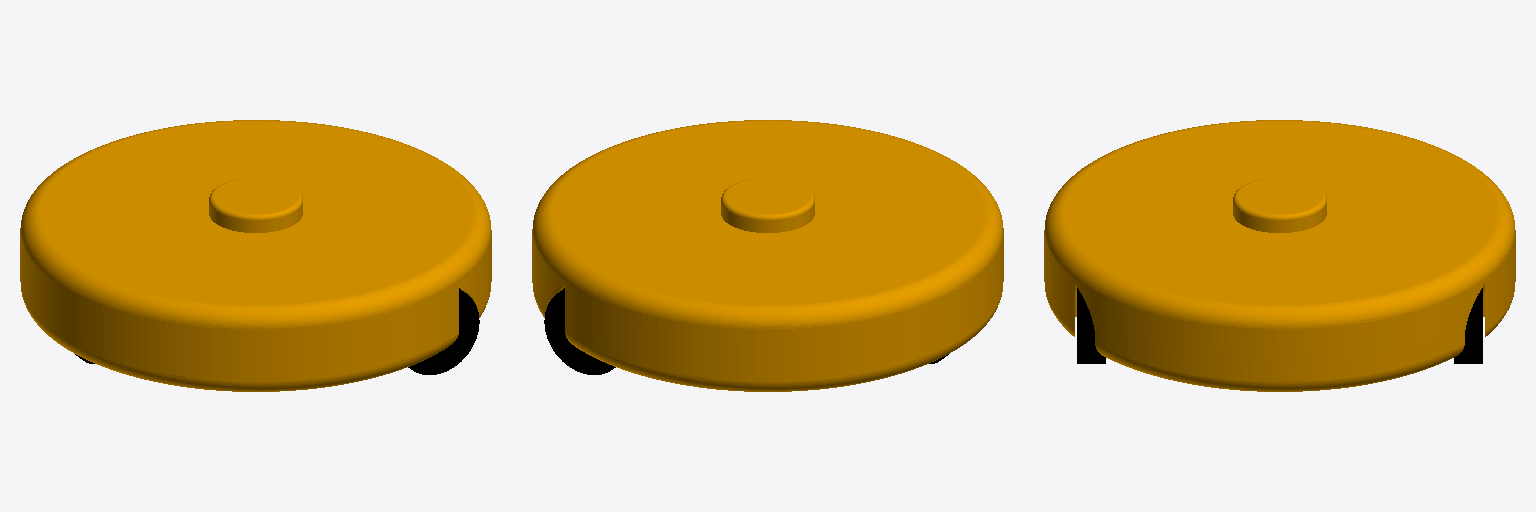
The robot description file, URDF, robot "mon_premier_robot":
<?xml version ="1.0"?>
<robot name="mon_premier_robot">

    <material name="Black">
        <color rgba="0.0 0.0 0.0 1.0"/>
    </material>

    <link name="base_link">
        <visual>
            <geometry>
                <mesh filename="package://robot_description/urdf/meshes/chassis.dae"/>
            </geometry>
            <origin xyz="0.0 0.0 -0.05" rpy="0.0 0.0 -1.57075"/>
        </visual>
        <collision>
            <geometry>
                <mesh filename="package://robot_description/urdf/meshes/chassis.dae"/>
            </geometry>
            <origin xyz="0.0 0.0 -0.05" rpy="0.0 0.0 -1.57075"/>
        </collision>
    </link>


    <link name="right_wheel">
        <visual>
            <geometry>
                <cylinder radius="0.05" length="0.03" />
            </geometry>
            <origin rpy="1.57075 0.0 0.0"/>
            <material name="Black"/>
        </visual>
        <collision>
            <geometry>
                <cylinder radius="0.05" length="0.03" />
            </geometry>
            <origin rpy="1.57075 0.0 0.0"/>
        </collision>
    </link>

    <joint name="right_wheel_joint" type="continuous">
        <parent link="base_link"/>
        <child link="right_wheel"/>
        <origin xyz="0.1 -0.2 -0.025"/>
        <axis xyz="0.0 1.0 0.0"/>
    </joint>    

    <link name="left_wheel">
        <visual>
            <geometry>
                <cylinder radius="0.05" length="0.03" />
            </geometry>
            <origin rpy="1.57075 0.0 0.0"/>
            <material name="Black"/>
        </visual>
        <collision>
            <geometry>
                <cylinder radius="0.05" length="0.03" />
            </geometry>
            <origin rpy="1.57075 0.0 0.0"/>
        </collision>
    </link>

    <joint name="left_wheel_joint" type="continuous">
        <parent link="base_link"/>
        <child link="left_wheel"/>
        <origin xyz="0.1 0.2 -0.025"/>
        <axis xyz="0.0 1.0 0.0"/>
    </joint>    

    <link name="crazy_wheel_support"/>

    <joint name="crazy_wheel_support_joint" type="continuous">
        <parent link="base_link"/>
        <child link="crazy_wheel_support"/>
        <origin xyz="-0.2 0.0 -0.05"/>
        <axis xyz="0.0 0.0 1.0"/>
    </joint>    

    <link name="crazy_wheel">
        <visual>
            <geometry>
                <cylinder radius="0.025" length="0.02" />
            </geometry>
            <origin rpy="1.57075 0.0 0.0"/>
            <material name="Black"/>
        </visual>
        <collision>
            <geometry>
                <cylinder radius="0.025" length="0.02" />
            </geometry>
            <origin rpy="1.57075 0.0 0.0"/>
        </collision>
    </link>

    <joint name="crazy_wheel_joint" type="continuous">
        <parent link="crazy_wheel_support"/>
        <child link="crazy_wheel"/>
        <origin xyz="0.0 0.0 0.0"/>
        <axis xyz="0.0 1.0 0.0"/>
    </joint>    

</robot>

--- Render facts (derived) ---
Views: 3 orthographic renders of the robot side by side, from view 1: azimuth 30°, elevation 25°; view 2: azimuth 150°, elevation 25°; view 3: azimuth 270°, elevation 25°.
Robot: mon_premier_robot — 5 links, 4 joints (4 continuous); root link base_link; default pose: every joint at zero.
Links seen in each view (by area): view 1: base_link, right_wheel; view 2: base_link, left_wheel; view 3: base_link, right_wheel, left_wheel.
Link boxes in pixels (x1,y1,x2,y2): base_link: (20,120,491,391); right_wheel: (408,288,479,374); base_link: (532,120,1003,391); left_wheel: (544,288,615,374); base_link: (1044,120,1515,391); right_wheel: (1077,288,1105,363); left_wheel: (1454,288,1482,363).
Bounding box of the posed robot: 0.5 × 0.5 × 0.145 m (x, y, z).
1 mesh visuals loaded from 1 distinct referenced files (1 Collada DAE).